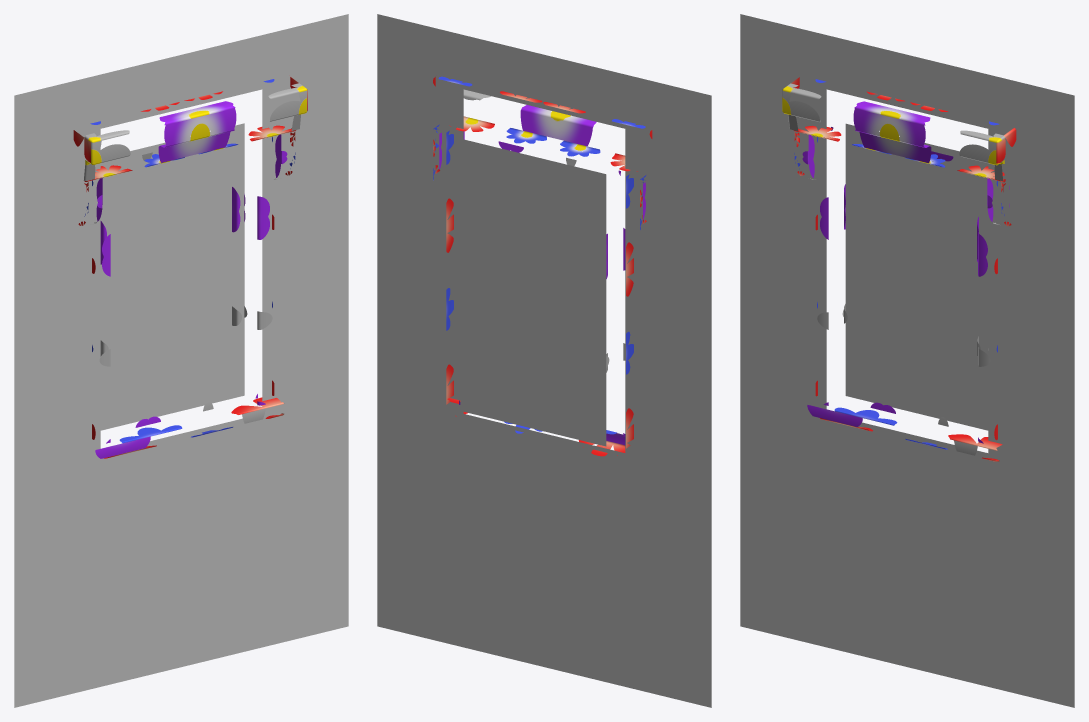
File: Wall_Base_Window.fbx
3 renders of one model, left to right at view 1: azimuth 30°, elevation 25°; view 2: azimuth 150°, elevation 25°; view 3: azimuth 330°, elevation 25°, orthographic.
Parts seen in each view (by area): view 1: Wall_Base_Window; view 2: Wall_Base_Window; view 3: Wall_Base_Window.
Boxes of the visible parts, x1,y1,x2,y2 form: Wall_Base_Window: (14,14,348,707); Wall_Base_Window: (377,14,711,707); Wall_Base_Window: (740,14,1074,707).
Size of the model in its own units: 300 by 525 by 48.52.
